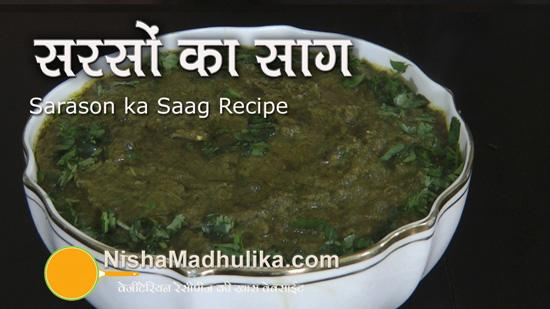saag: (41, 119, 445, 234)
